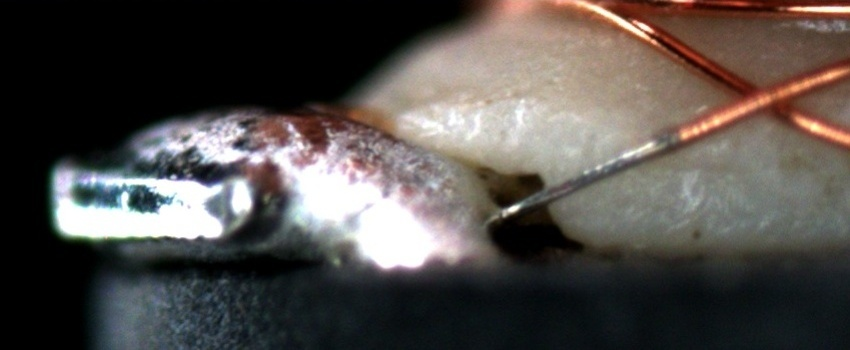CL: (714, 67, 816, 129)
DL: (611, 147, 727, 185)
TS: (499, 133, 681, 216)
